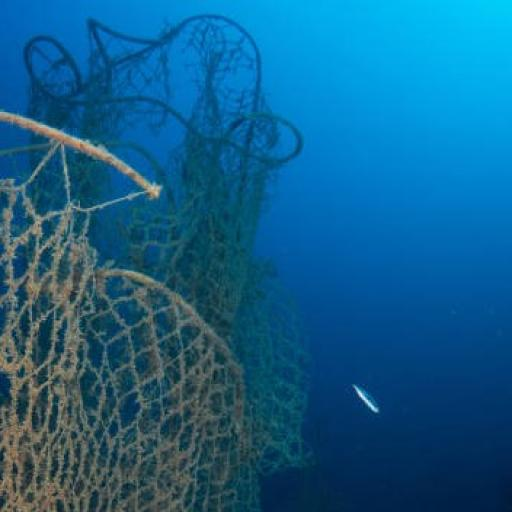net: (2, 19, 314, 510)
